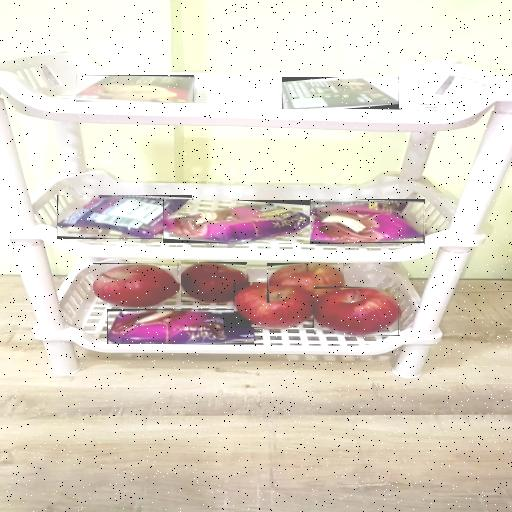Apple: (314, 289, 399, 336), (234, 282, 314, 328), (94, 264, 178, 307), (269, 263, 344, 302), (181, 263, 246, 302)
Choco Fills: (282, 78, 399, 109), (76, 76, 194, 101)
Choco Pie: (163, 203, 311, 243), (57, 195, 192, 238), (311, 200, 424, 243), (108, 310, 254, 343)
